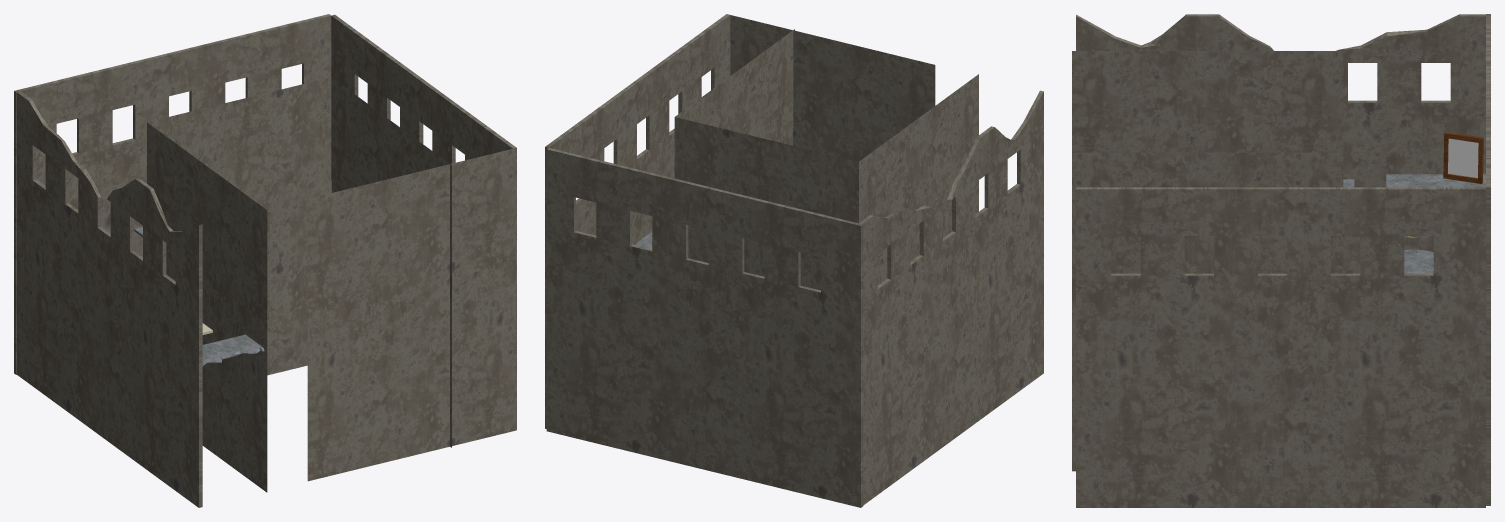
The model's file is level1.dae.
3 views of the same model, side by side, from view 1: azimuth 30°, elevation 25°; view 2: azimuth 150°, elevation 25°; view 3: azimuth 270°, elevation 25° (orthographic). The views are drawn at different scales.
Parts seen in each view (by area): view 1: Wall1, Wall4, Wall3, Wall5, Wall6, Wall2, Wall7, Floor10; view 2: Wall3, Wall4, Wall1, Wall6, Wall2, Wall5, Wall7; view 3: Wall2, Wall5, Wall4, Wall7, Wall3, Floor6, MirrorPlane1, MirrorBorder1, Floor4.
Part boxes in pixels (<box>): Wall1: <box>307,148,515,481</box>; Wall4: <box>17,91,202,507</box>; Wall3: <box>14,14,331,374</box>; Wall5: <box>147,122,267,492</box>; Wall6: <box>147,77,331,375</box>; Wall2: <box>331,14,516,430</box>; Wall7: <box>331,77,451,447</box>; Floor10: <box>202,334,264,366</box>; Wall3: <box>546,148,863,507</box>; Wall4: <box>859,90,1043,505</box>; Wall1: <box>730,15,935,161</box>; Wall6: <box>674,117,858,290</box>; Wall2: <box>545,14,730,428</box>; Wall5: <box>859,74,978,285</box>; Wall7: <box>675,29,794,145</box>; Wall2: <box>1076,187,1485,507</box>; Wall5: <box>1072,51,1343,152</box>; Wall4: <box>1076,14,1485,273</box>; Wall7: <box>1072,152,1343,471</box>; Wall3: <box>1486,14,1490,505</box>; Floor6: <box>1386,174,1485,187</box>; MirrorPlane1: <box>1448,138,1478,178</box>; MirrorBorder1: <box>1443,132,1483,183</box>; Floor4: <box>1404,249,1433,273</box>.
Size of the model in its own units: 28.33 by 28.6 by 24.
6 materials, 3 textured.
